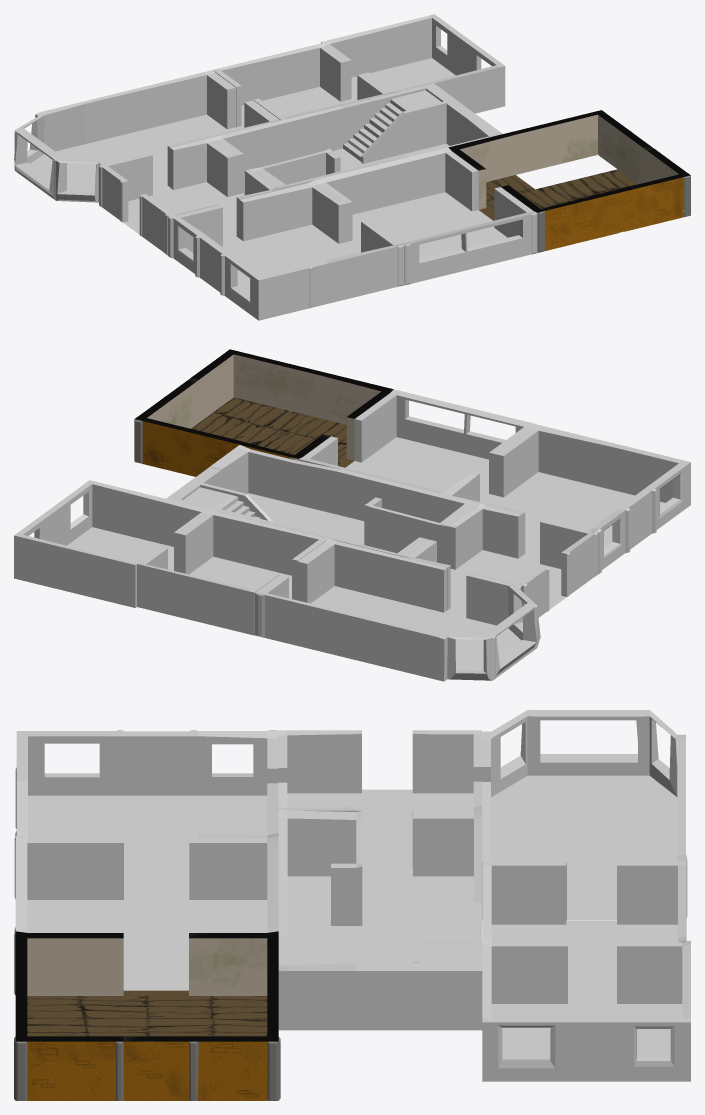
File: Downstairs Floor.fbx
The picture shows the model from 3 angles, top to bottom: view 1: azimuth 30°, elevation 25°; view 2: azimuth 150°, elevation 25°; view 3: azimuth 270°, elevation 25°; orthographic projection. The views are drawn at different scales.
Parts seen in each view (by area): view 1: Dinning room, kitchen, library, Kitchen room, staircase room, Secret secret room, Entrance room, secret room (dinning room), stairs.001; view 2: library, kitchen, Dinning room, staircase room, Secret secret room, secret room (dinning room), Kitchen room, Entrance room, stairs.001; view 3: staircase room, kitchen, Dinning room, library, Secret secret room, Kitchen room, secret room (dinning room), Entrance room, stairs.001.
Boxes of the visible parts, left/top/right/bottom form: Dinning room: left=168, top=180, right=404, bottom=320; kitchen: left=448, top=110, right=690, bottom=252; library: left=14, top=70, right=281, bottom=202; Kitchen room: left=316, top=147, right=537, bottom=285; staircase room: left=209, top=83, right=502, bottom=198; Secret secret room: left=321, top=14, right=505, bottom=113; Entrance room: left=99, top=138, right=278, bottom=255; secret room (dinning room): left=213, top=43, right=390, bottom=128; stairs.001: left=338, top=90, right=440, bottom=163; library: left=254, top=538, right=540, bottom=681; kitchen: left=134, top=349, right=393, bottom=476; Dinning room: left=440, top=424, right=690, bottom=574; staircase room: left=166, top=445, right=479, bottom=564; Secret secret room: left=14, top=480, right=210, bottom=607; secret room (dinning room): left=137, top=510, right=327, bottom=635; Kitchen room: left=298, top=389, right=534, bottom=502; Entrance room: left=406, top=503, right=597, bottom=617; stairs.001: left=183, top=487, right=260, bottom=518; staircase room: left=278, top=809, right=482, bottom=1030; kitchen: left=14, top=931, right=280, bottom=1100; Dinning room: left=15, top=730, right=278, bottom=895; library: left=482, top=710, right=687, bottom=920; Secret secret room: left=482, top=940, right=690, bottom=1081; Kitchen room: left=14, top=836, right=278, bottom=990; secret room (dinning room): left=482, top=861, right=686, bottom=999; Entrance room: left=278, top=730, right=481, bottom=868; stairs.001: left=419, top=941, right=473, bottom=962.
Bounding box in the file's own units: 3605 × 300 × 3082.
